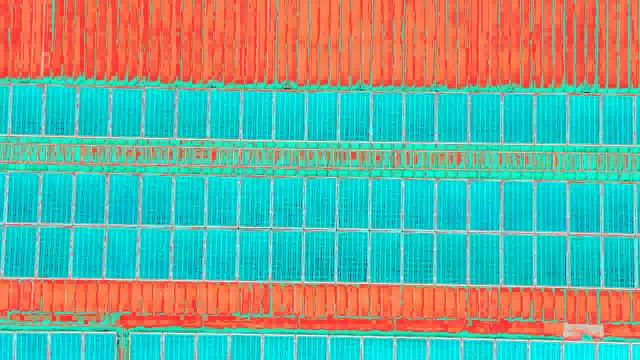dirty: (9, 87, 44, 136), (42, 87, 77, 136), (76, 86, 111, 135), (109, 87, 144, 136), (141, 87, 176, 136), (173, 88, 208, 137), (207, 89, 242, 138), (237, 90, 272, 139), (271, 90, 306, 139), (303, 93, 338, 142), (335, 91, 370, 140), (371, 92, 406, 141), (401, 92, 436, 141), (433, 92, 468, 141), (468, 93, 503, 142), (500, 93, 535, 142), (532, 93, 567, 142), (564, 93, 599, 142), (598, 95, 633, 144), (601, 184, 636, 233), (569, 184, 604, 233), (533, 183, 568, 232), (500, 182, 535, 231), (465, 180, 500, 229), (432, 180, 467, 229), (402, 180, 437, 229), (369, 179, 404, 228), (335, 179, 370, 228), (303, 178, 338, 227), (267, 177, 302, 226), (236, 177, 271, 226), (206, 176, 241, 225), (171, 176, 206, 225), (137, 174, 172, 223), (103, 174, 138, 223), (73, 174, 108, 223), (40, 174, 75, 223), (5, 172, 40, 221), (2, 228, 37, 277), (37, 226, 72, 275), (71, 228, 106, 277), (104, 227, 139, 276), (135, 229, 170, 278), (170, 230, 205, 279), (203, 231, 238, 280), (234, 230, 269, 279), (270, 230, 305, 279), (301, 231, 336, 280), (336, 231, 371, 280), (368, 233, 403, 282), (399, 233, 434, 282), (434, 233, 469, 282), (467, 233, 501, 283), (500, 234, 534, 284), (534, 236, 568, 286), (566, 234, 600, 284), (600, 236, 634, 286)
